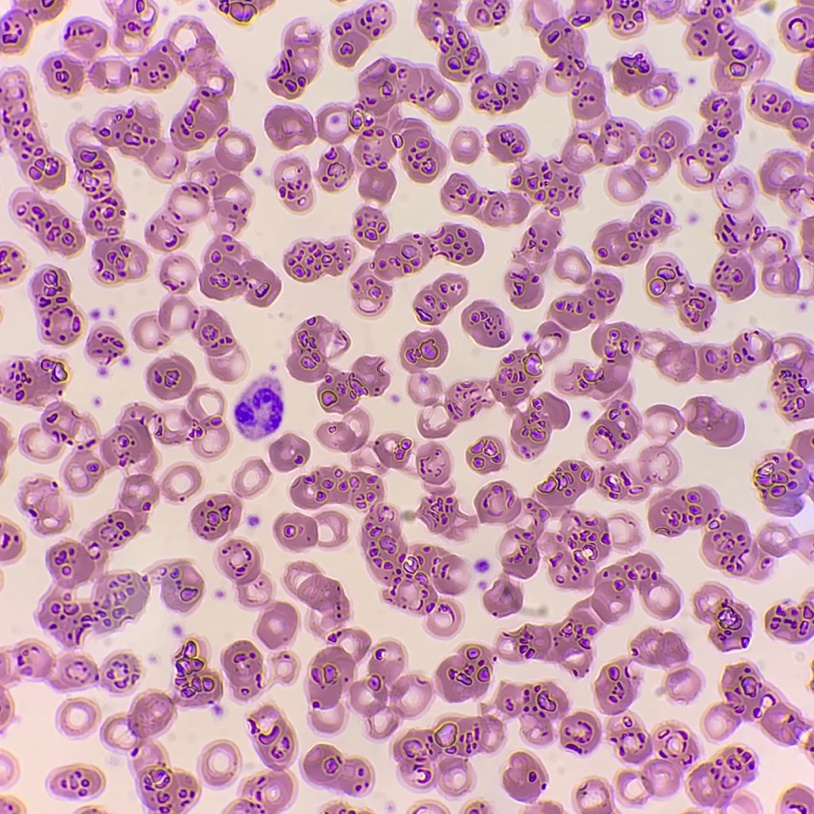RBC: (38, 406, 158, 647), (101, 640, 222, 813), (317, 59, 458, 202), (648, 487, 796, 577), (309, 630, 431, 738), (137, 21, 233, 150), (624, 96, 740, 193), (514, 121, 631, 213), (502, 461, 594, 577), (361, 510, 461, 610), (287, 316, 389, 412), (354, 207, 483, 279), (393, 715, 503, 795), (490, 347, 569, 453), (220, 540, 297, 648), (70, 108, 164, 190), (0, 71, 65, 189), (705, 663, 801, 742), (497, 683, 600, 751), (497, 610, 597, 676), (716, 215, 798, 293), (555, 323, 640, 398), (540, 21, 604, 119), (591, 554, 680, 622), (617, 730, 696, 804), (687, 7, 756, 91), (655, 332, 773, 381), (199, 235, 280, 306), (196, 128, 254, 227), (550, 250, 621, 329), (417, 0, 485, 81), (84, 194, 146, 281), (154, 388, 228, 457), (646, 256, 714, 330), (505, 216, 559, 308), (755, 430, 813, 515), (593, 204, 670, 265), (250, 706, 293, 813), (441, 174, 529, 225), (551, 511, 609, 588), (600, 446, 677, 499), (285, 562, 348, 623), (290, 467, 383, 508), (690, 747, 753, 807), (31, 267, 80, 344), (694, 585, 750, 650), (187, 308, 237, 380), (331, 4, 390, 65), (26, 194, 83, 254), (268, 33, 320, 98), (753, 86, 813, 141), (471, 61, 538, 110), (0, 0, 63, 52), (303, 744, 369, 793), (437, 644, 490, 701), (613, 57, 675, 105), (418, 488, 476, 539), (588, 400, 638, 458), (235, 378, 282, 439), (3, 358, 65, 404), (688, 396, 743, 446), (773, 352, 813, 420), (284, 240, 350, 281), (414, 274, 467, 324), (20, 479, 68, 534), (760, 152, 813, 198), (595, 660, 638, 714), (221, 641, 261, 699), (462, 300, 509, 347), (191, 495, 241, 539), (147, 355, 195, 399), (265, 106, 314, 149), (503, 752, 546, 801), (161, 561, 203, 610), (0, 644, 53, 682), (632, 629, 687, 665), (765, 602, 813, 642), (711, 256, 754, 300), (475, 481, 520, 522), (401, 332, 447, 372), (352, 274, 391, 315), (273, 514, 317, 550), (607, 726, 651, 762), (445, 381, 483, 422), (44, 56, 85, 93), (52, 768, 104, 797), (53, 656, 98, 689), (269, 434, 309, 471), (484, 578, 522, 616), (42, 402, 79, 441), (66, 21, 106, 57), (488, 126, 526, 162), (318, 151, 353, 189), (466, 437, 504, 472), (318, 422, 363, 451), (162, 465, 200, 499), (416, 444, 449, 483), (101, 654, 138, 688), (145, 219, 185, 250), (278, 174, 312, 210), (234, 460, 268, 496), (87, 61, 130, 89), (374, 434, 409, 468), (576, 780, 612, 813), (216, 0, 271, 21), (60, 702, 95, 734), (87, 326, 123, 357), (133, 316, 166, 349), (665, 669, 699, 700), (468, 0, 508, 24), (116, 0, 143, 35), (319, 511, 346, 542), (452, 132, 478, 162), (783, 788, 813, 813), (572, 0, 603, 24), (0, 525, 21, 560), (539, 322, 568, 347), (0, 247, 22, 278), (612, 0, 642, 22), (802, 217, 813, 260), (181, 183, 207, 201), (797, 64, 813, 91), (0, 424, 10, 462), (204, 771, 227, 785), (0, 693, 10, 724), (159, 303, 171, 327), (418, 419, 432, 437), (540, 803, 562, 813), (241, 801, 259, 813), (0, 801, 15, 813), (803, 19, 813, 33), (175, 156, 185, 170), (476, 559, 487, 570), (160, 273, 169, 283), (432, 381, 440, 392), (807, 736, 813, 750), (735, 173, 745, 181), (248, 516, 257, 524), (325, 807, 336, 813), (657, 10, 665, 18), (115, 37, 123, 45), (19, 436, 27, 444), (404, 511, 412, 519), (279, 653, 287, 661), (808, 158, 813, 169), (803, 0, 813, 5), (86, 809, 97, 813)
